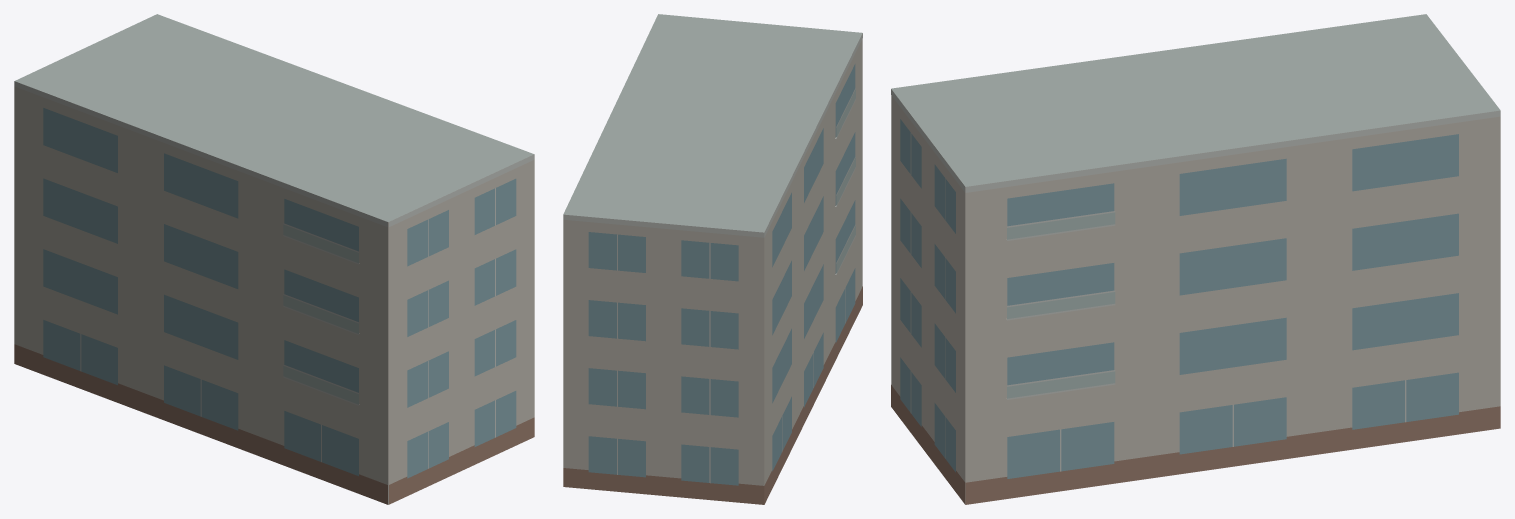
The model's file is survey-upis-32729247.glb.
3 renders of one model, left to right at view 1: azimuth 30°, elevation 25°; view 2: azimuth 150°, elevation 25°; view 3: azimuth 270°, elevation 25°, orthographic. The views are drawn at different scales.
Parts seen in each view (by area): view 1: survey-upis-32729247.tmp; view 2: survey-upis-32729247.tmp; view 3: survey-upis-32729247.tmp.
Boxes of the visible parts, <box> form: survey-upis-32729247.tmp: <box>14,14,534,504</box>; survey-upis-32729247.tmp: <box>563,14,862,504</box>; survey-upis-32729247.tmp: <box>891,14,1500,504</box>.
Bounding box in the file's own units: 15.06 × 12.9 × 22.43.
